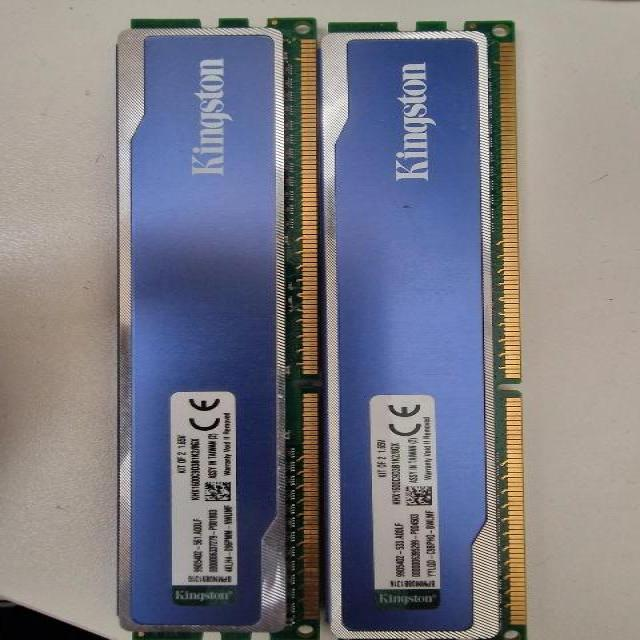RAM: (317, 18, 530, 640), (113, 16, 323, 640)
